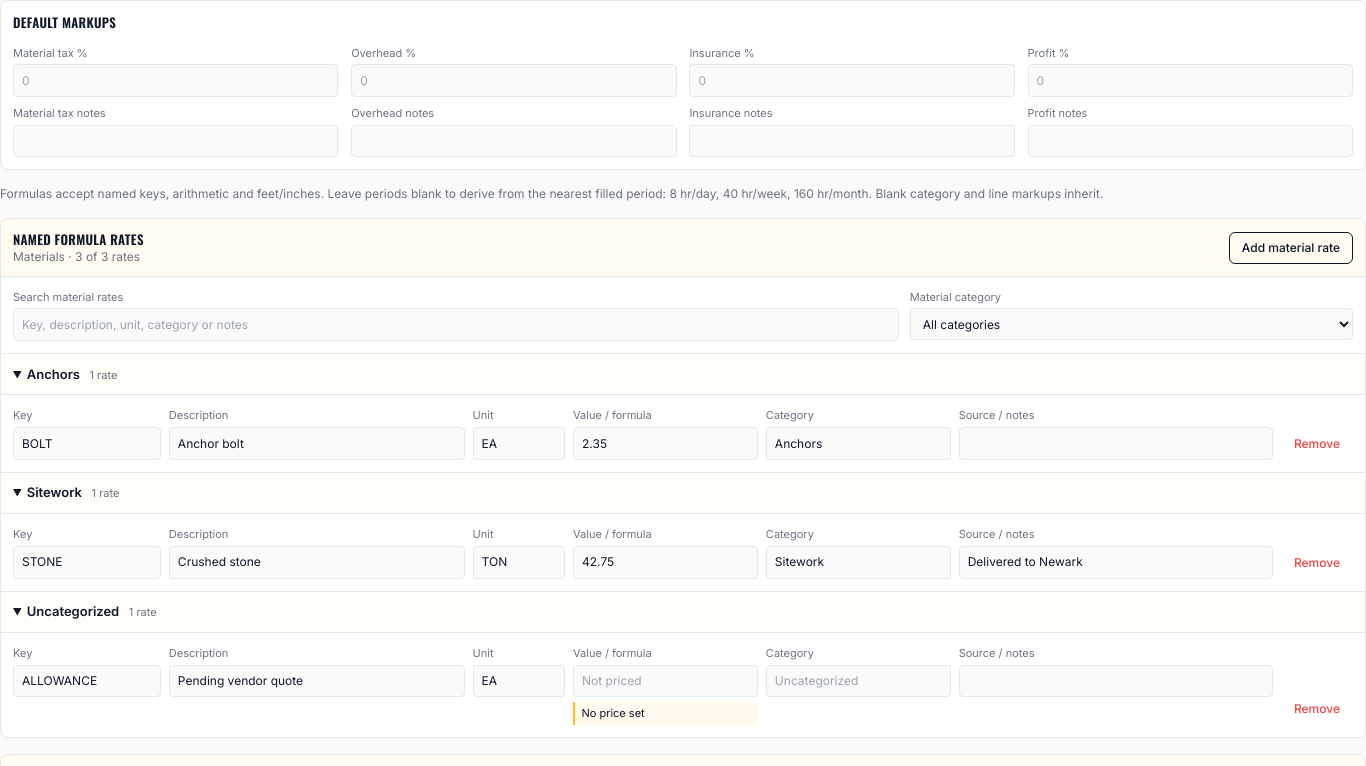
Test case: RatesEditor › searches notes and filters material categories without removing rows
Type "Newark" into the field labelled "Search material rates".
click(456, 325); type("Newark")  # box [13,308,899,341]
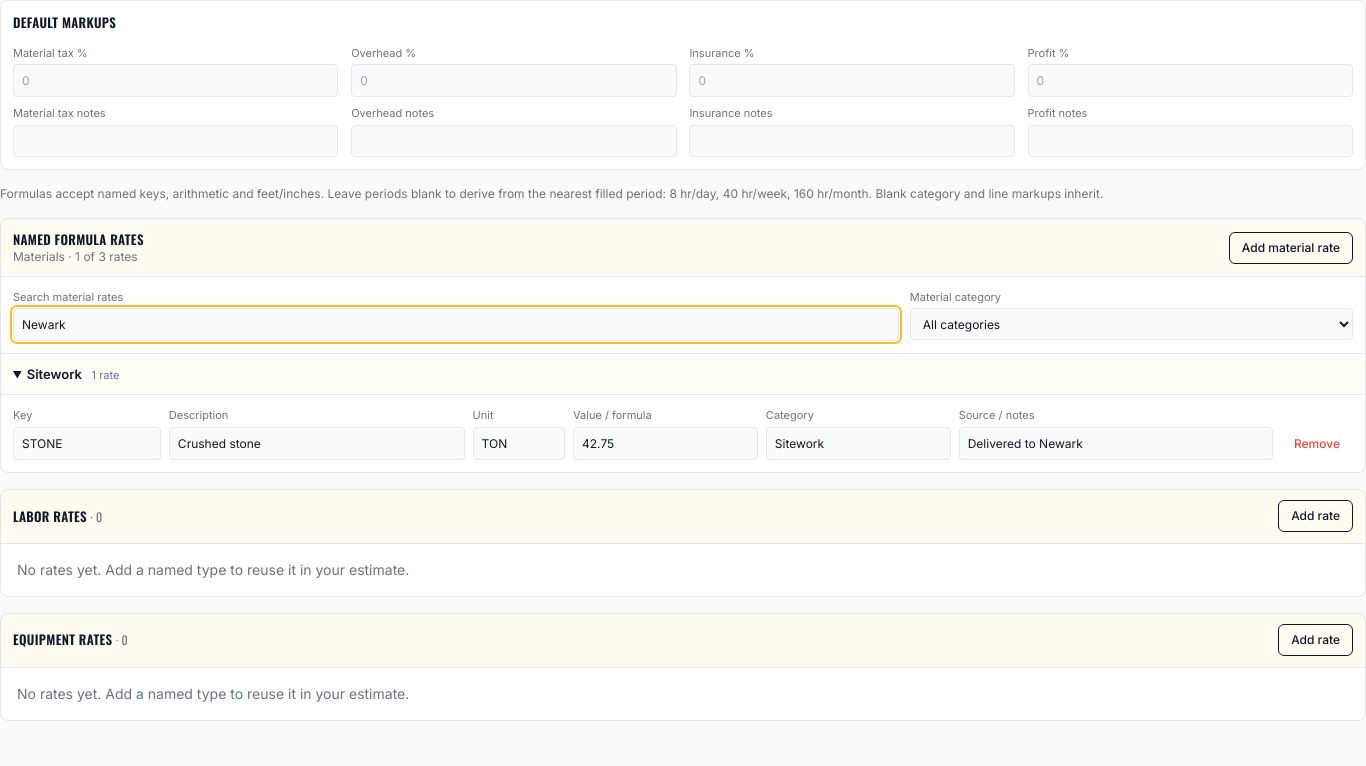
Check: the field showing "STONE" is shown, box [13,427,161,460]
Check: the field showing "BOLT" is not shown
Clear the field labelled "Search material rates" at {"x": 456, "y": 325}, box [13,308,899,341]
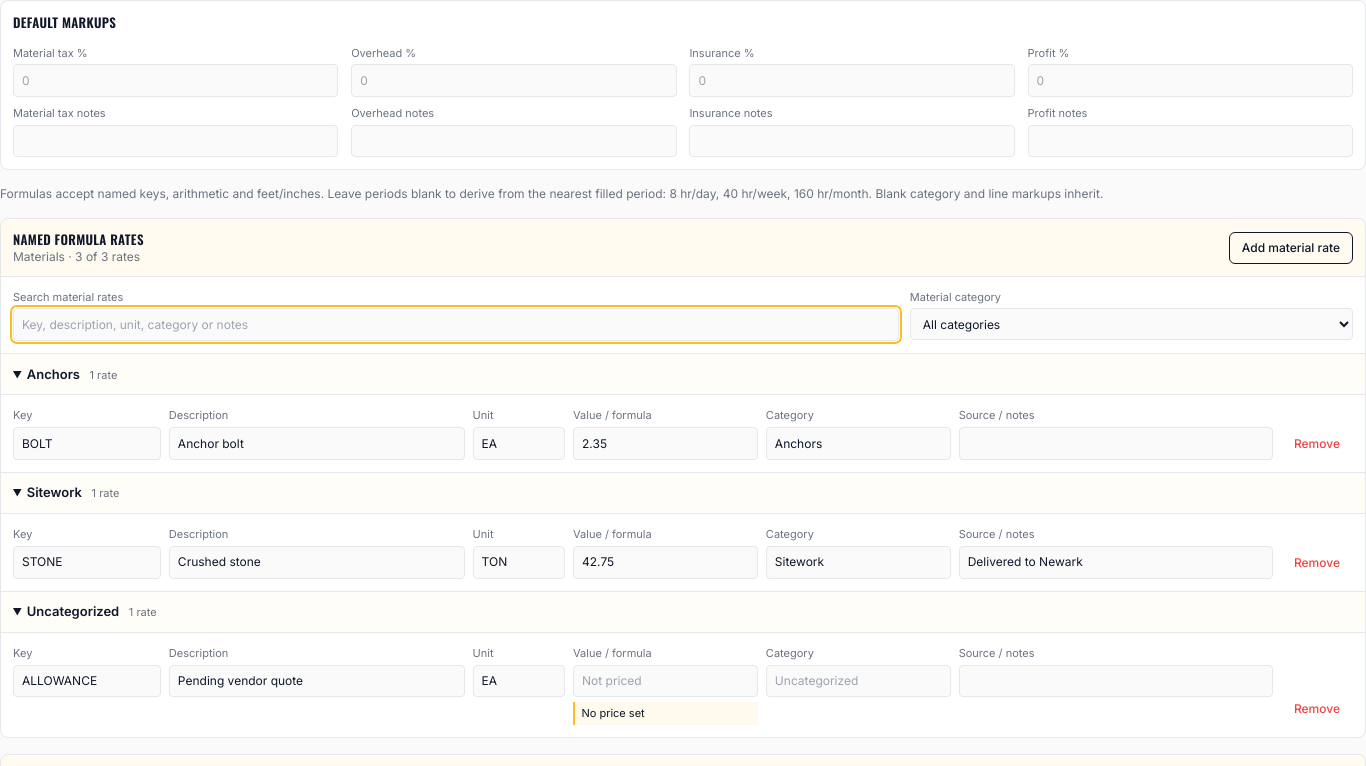
Select "Anchors" in the dropdown labelled "Material category" at {"x": 1131, "y": 324}, box [910,308,1353,340]
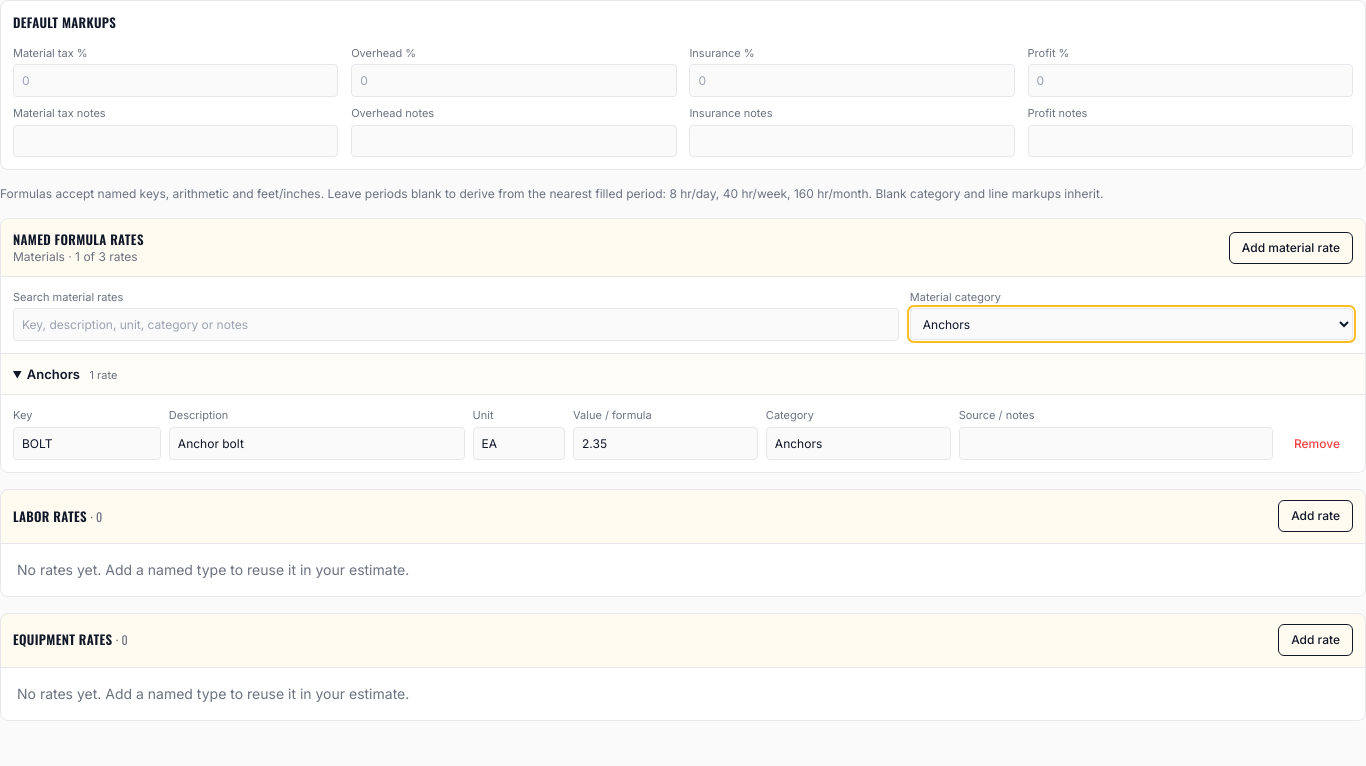
Check: the field showing "STONE" is not shown
Check: the field showing "BOLT" is shown, box [13,427,161,460]
Click the button "Add material rate".
click(1291, 248)  # box [1229,232,1353,264]
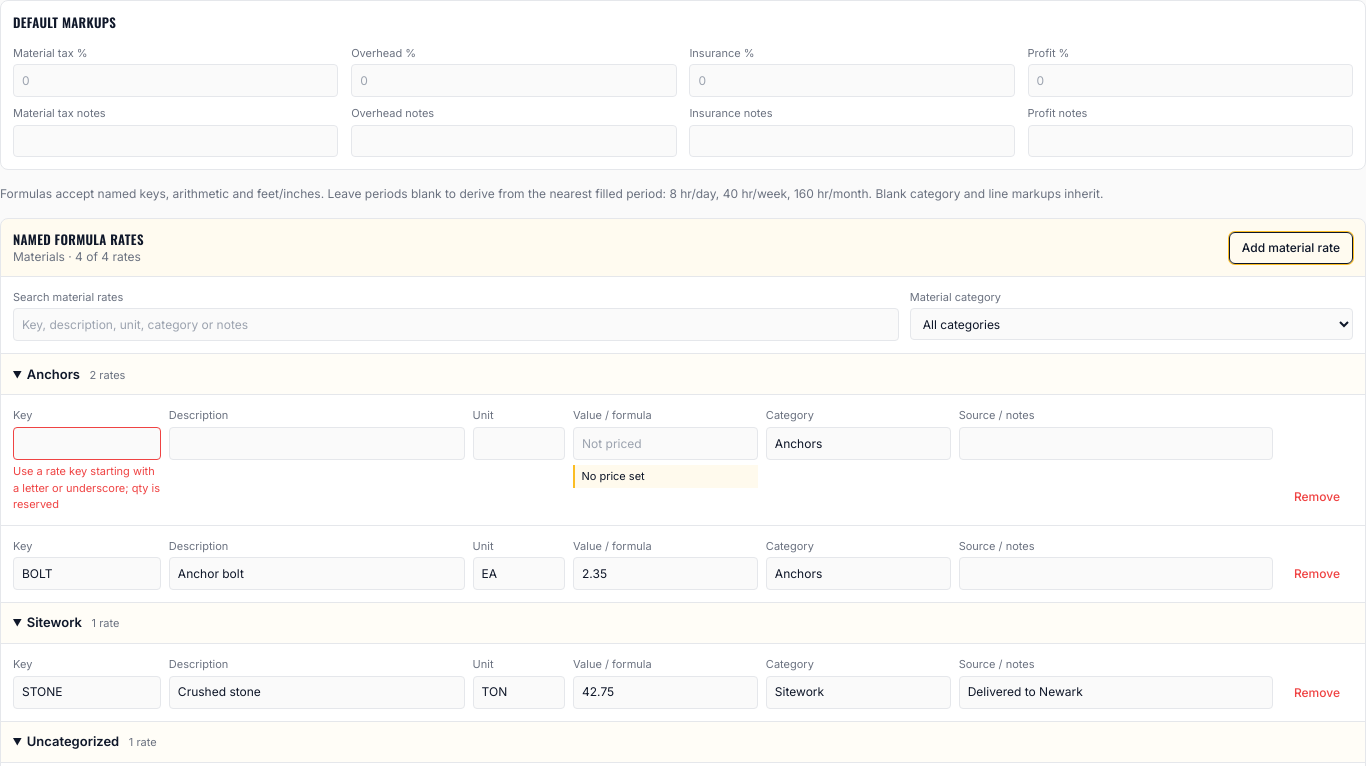
Check: the field showing "STONE" below "Sitework" is shown, box [13,676,161,709]
Check: the number of fields labelled "Key" is 4
